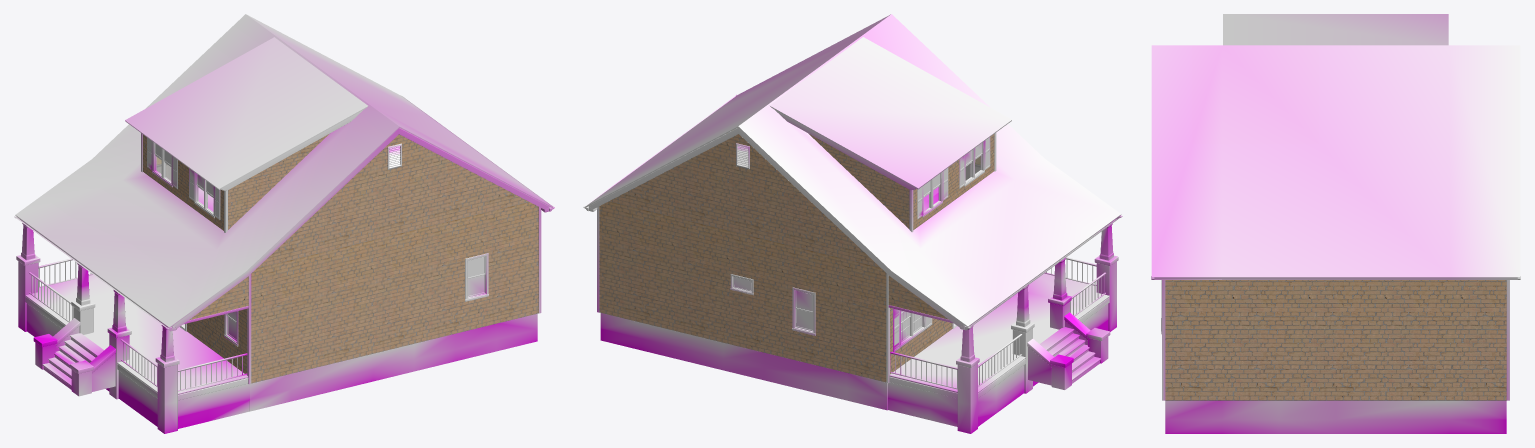
Rendered from SM_House_02.fbx.
3 renders of one model, left to right at view 1: azimuth 30°, elevation 25°; view 2: azimuth 150°, elevation 25°; view 3: azimuth 270°, elevation 25°, orthographic. The views are drawn at different scales.
Visible parts, largest first — view 1: SM_House_02_LOD0; view 2: SM_House_02_LOD0; view 3: SM_House_02_LOD0.
Boxes of the visible parts, <box> form: SM_House_02_LOD0: <box>14,14,554,433</box>; SM_House_02_LOD0: <box>583,14,1122,433</box>; SM_House_02_LOD0: <box>1151,14,1520,433</box>.
Size of the model in its own units: 1450 by 828 by 908.
20 materials, 2 textured.
